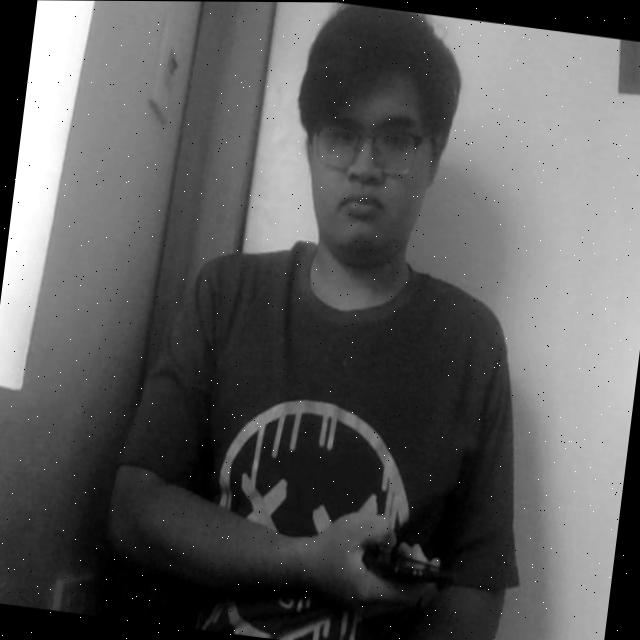phone: (347, 515, 451, 608)
